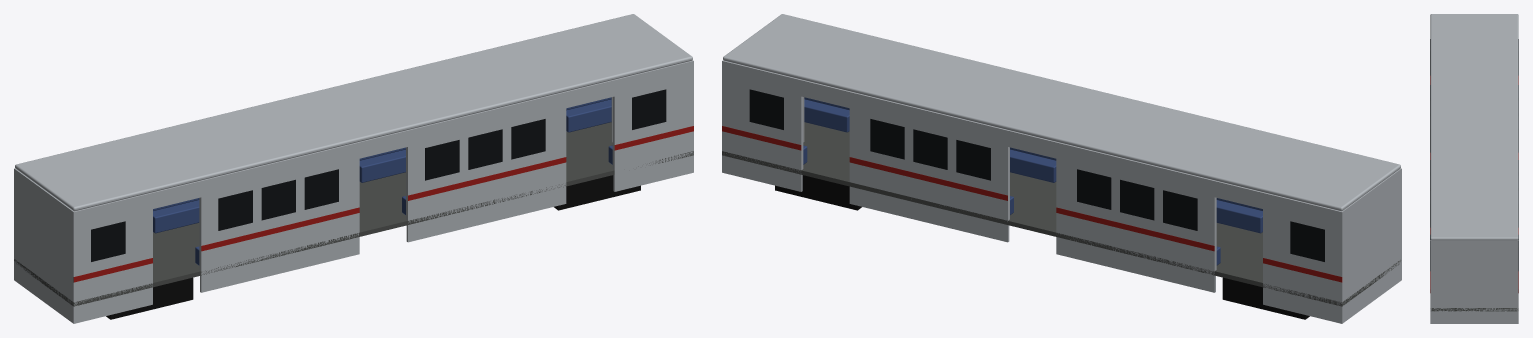
The model's file is metro_car_903.glb.
3 renders of one model, left to right at view 1: azimuth 30°, elevation 25°; view 2: azimuth 150°, elevation 25°; view 3: azimuth 270°, elevation 25°, orthographic. The views are drawn at different scales.
Parts seen in each view (by area): view 1: dach, seite-14, seite-12, boden, seite-16, seite-10, stirn-1, drehgestell6.5, drehgestell-6.5, fenster-12-4.8, fenster-12-3.55, fenster-141.2 (+15 smaller); view 2: dach, seite12, seite14, boden, seite10, seite16, stirn-1, drehgestell6.5, drehgestell-6.5, fenster12-4.8, fenster12-3.55, fenster141.2 (+15 smaller); view 3: dach, stirn1, boden, seite-16, seite16.
Boxes of the visible parts, x1,y1,x2,y2 form: dach: [15, 14, 692, 211]; seite-14: [406, 91, 566, 242]; seite-12: [200, 142, 359, 292]; boden: [14, 122, 693, 306]; seite-16: [613, 60, 693, 191]; seite-10: [72, 192, 152, 323]; stirn-1: [14, 168, 76, 323]; drehgestell6.5: [554, 175, 640, 210]; drehgestell-6.5: [106, 277, 193, 319]; fenster-12-4.8: [218, 190, 252, 230]; fenster-12-3.55: [261, 179, 295, 220]; fenster-141.2: [425, 140, 459, 180]; dach: [723, 14, 1400, 211]; seite12: [1056, 142, 1215, 292]; seite14: [849, 91, 1009, 242]; boden: [722, 122, 1400, 306]; seite10: [1263, 192, 1342, 323]; seite16: [722, 60, 802, 191]; stirn-1: [1339, 169, 1401, 323]; drehgestell6.5: [775, 175, 861, 210]; drehgestell-6.5: [1222, 277, 1309, 319]; fenster12-4.8: [1163, 190, 1197, 230]; fenster12-3.55: [1120, 179, 1154, 220]; fenster141.2: [956, 140, 990, 180]; dach: [1430, 14, 1518, 240]; stirn1: [1430, 240, 1518, 323]; boden: [1430, 308, 1518, 311]; seite-16: [1430, 240, 1431, 323]; seite16: [1517, 240, 1518, 323].
Bounding box in the file's own units: 18 × 3.65 × 3.01.
